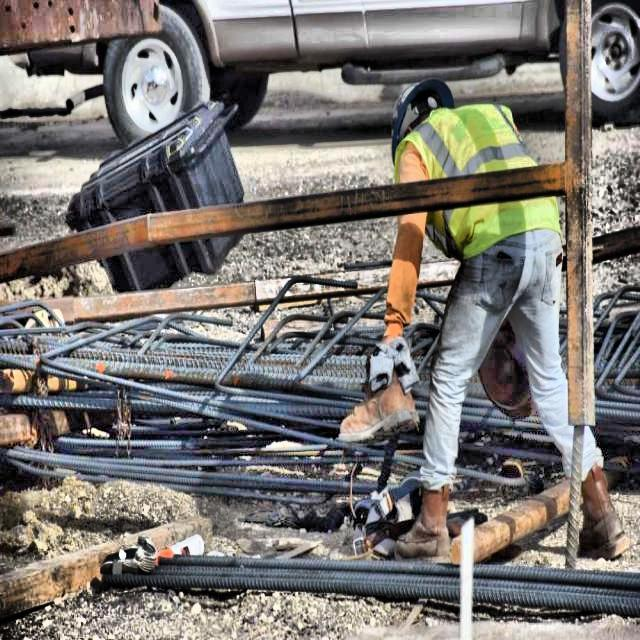safety_jacket: (390, 96, 574, 271)
